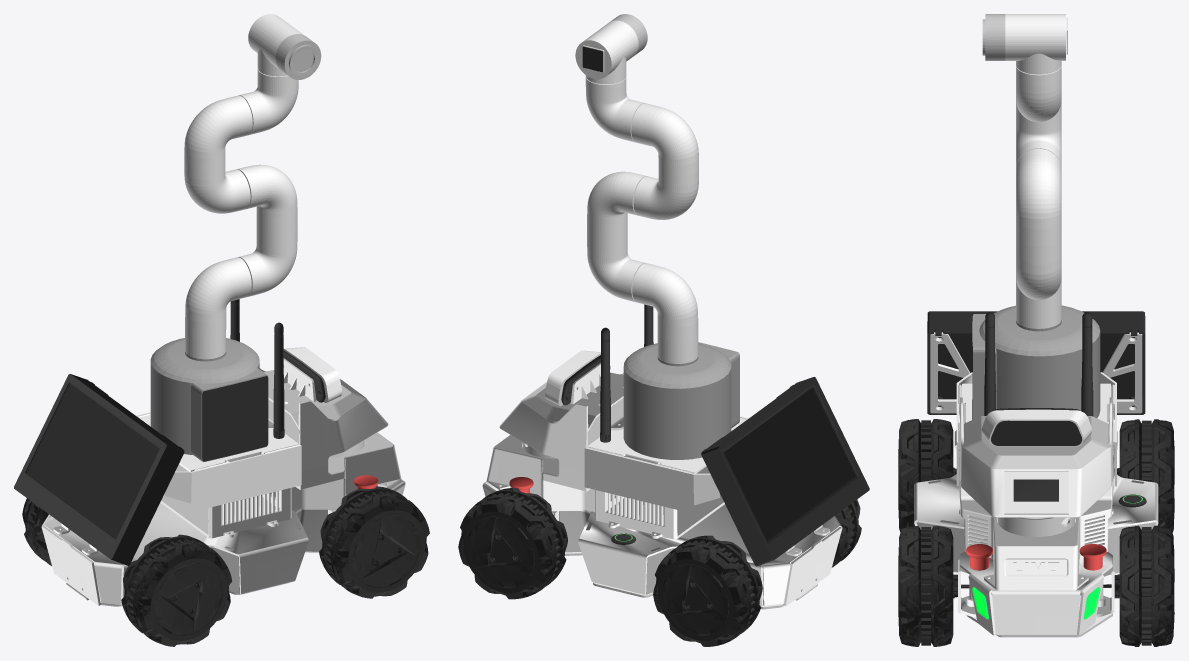
The model's file is ros-car.glb.
3 renders of one model, left to right at view 1: azimuth 30°, elevation 25°; view 2: azimuth 150°, elevation 25°; view 3: azimuth 270°, elevation 25°, orthographic. The views are drawn at different scales.
Visible parts, largest first — view 1: 外壳, 底座, 前轮2, 后轮2, 部件4, 部件5, 部件6, 部件3, 部件2, 顶部, 部件1, 后轮1; view 2: 外壳, 底座, 后轮1, 前轮1, 部件4, 部件5, 部件6, 部件2, 部件3, 顶部, 后轮2; view 3: 外壳, 底座, 前轮1, 前轮2, 部件5, 后轮2, 后轮1, 顶部, 部件2, 部件3, 部件4, 部件6 (+2 smaller).
Part boxes in pixels (x1=…): 外壳: x1=14, y1=299, x2=405, y2=606; 底座: x1=150, y1=338, x2=268, y2=462; 前轮2: x1=319, y1=486, x2=429, y2=598; 后轮2: x1=121, y1=534, x2=232, y2=646; 部件4: x1=184, y1=95, x2=252, y2=213; 部件5: x1=237, y1=164, x2=297, y2=296; 部件6: x1=185, y1=257, x2=251, y2=359; 部件3: x1=238, y1=68, x2=298, y2=135; 部件2: x1=248, y1=14, x2=304, y2=76; 顶部: x1=283, y1=347, x2=342, y2=402; 部件1: x1=275, y1=34, x2=321, y2=79; 后轮1: x1=22, y1=498, x2=51, y2=565; 外壳: x1=482, y1=304, x2=869, y2=609; 底座: x1=623, y1=342, x2=739, y2=459; 后轮1: x1=653, y1=535, x2=762, y2=646; 前轮1: x1=458, y1=488, x2=567, y2=599; 部件4: x1=631, y1=103, x2=698, y2=219; 部件5: x1=587, y1=171, x2=646, y2=302; 部件6: x1=632, y1=263, x2=698, y2=363; 部件2: x1=575, y1=20, x2=638, y2=84; 部件3: x1=585, y1=76, x2=645, y2=142; 顶部: x1=545, y1=350, x2=610, y2=405; 后轮2: x1=832, y1=499, x2=861, y2=567; 外壳: x1=914, y1=311, x2=1158, y2=637; 底座: x1=972, y1=305, x2=1100, y2=419; 前轮1: x1=1103, y1=525, x2=1174, y2=646; 前轮2: x1=898, y1=525, x2=969, y2=646; 部件5: x1=1016, y1=148, x2=1061, y2=299; 后轮2: x1=898, y1=419, x2=956, y2=532; 后轮1: x1=1114, y1=419, x2=1174, y2=532; 顶部: x1=981, y1=408, x2=1092, y2=446; 部件2: x1=1005, y1=14, x2=1067, y2=74; 部件3: x1=1016, y1=66, x2=1061, y2=122; 部件4: x1=1016, y1=102, x2=1061, y2=167; 部件6: x1=1016, y1=279, x2=1061, y2=328.
Size of the model in its own units: 3.07 by 4.93 by 2.06.
